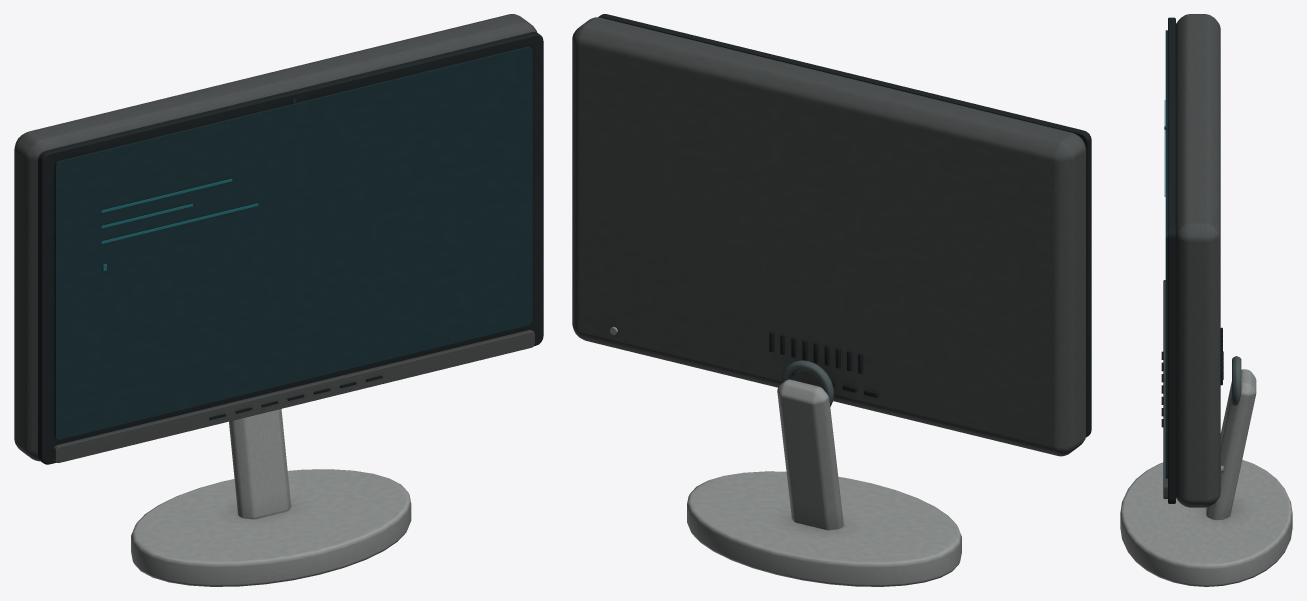
The model's file is monoblock_pc.obj.
3 renders of one model, left to right at view 1: azimuth 30°, elevation 25°; view 2: azimuth 150°, elevation 25°; view 3: azimuth 270°, elevation 25°, orthographic. The views are drawn at different scales.
Visible parts, largest first — view 1: monoblock_pc_static_0, monoblock_pc_static_1; view 2: monoblock_pc_static_0; view 3: monoblock_pc_static_0.
Boxes of the visible parts, <box> form: monoblock_pc_static_0: <box>14,14,543,586</box>; monoblock_pc_static_1: <box>101,178,258,270</box>; monoblock_pc_static_0: <box>572,14,1091,586</box>; monoblock_pc_static_0: <box>1120,14,1292,586</box>.
Bounding box in the file's own units: 0.588 × 0.5135 × 0.194.
Materials: 2 (1 with a texture image).
